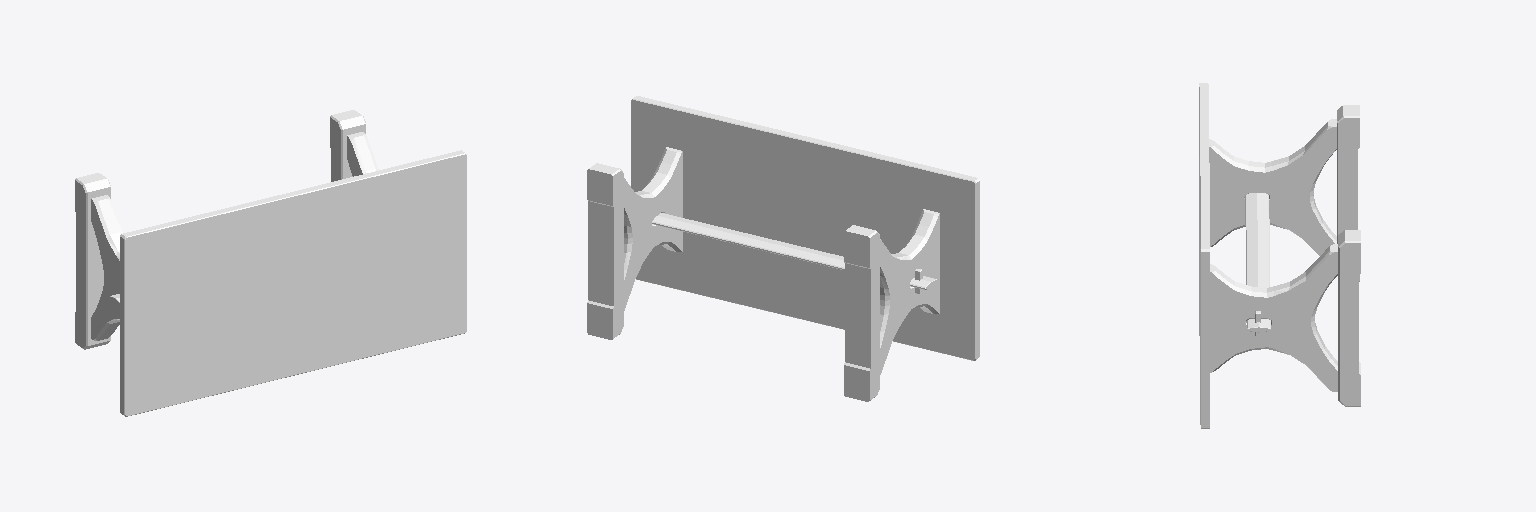
File: table.obj
3 renders of one model, left to right at view 1: azimuth 30°, elevation 25°; view 2: azimuth 150°, elevation 25°; view 3: azimuth 270°, elevation 25°, orthographic.
Parts seen in each view (by area): view 1: Object.1; view 2: Object.1; view 3: Object.1.
Part boxes in pixels (left/top/right/bottom): Object.1: left=75, top=110, right=466, bottom=416; Object.1: left=587, top=96, right=979, bottom=401; Object.1: left=1199, top=83, right=1360, bottom=428.
Bounding box in the file's own units: 200018 × 100000 × 81844.